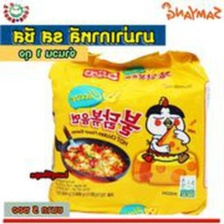snack: (41, 42, 218, 219)
